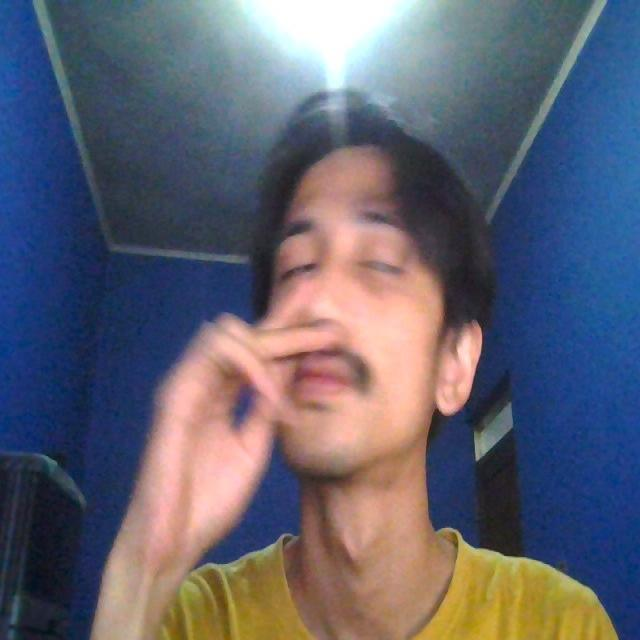movement: (109, 75, 518, 493)
